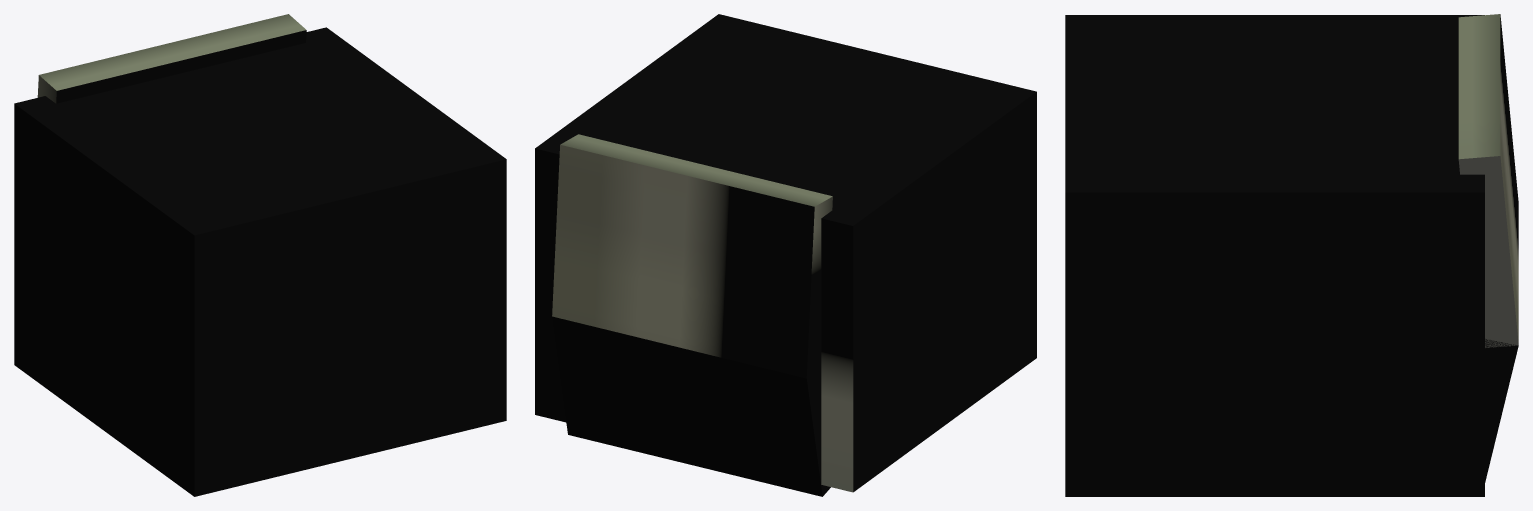
The model's file is osprey_kneepads_p_l.obj.
The picture shows the model from 3 angles, left to right: view 1: azimuth 30°, elevation 25°; view 2: azimuth 150°, elevation 25°; view 3: azimuth 270°, elevation 25°; orthographic projection. The views are drawn at different scales.
Visible parts, largest first — view 1: mesh; view 2: mesh; view 3: mesh.
Part boxes in pixels (bbox=[...]): mesh: bbox=[14, 14, 506, 496]; mesh: bbox=[535, 14, 1036, 496]; mesh: bbox=[1065, 14, 1518, 496].
Size of the model in its own units: 0.3125 by 0.2777 by 0.3375.
